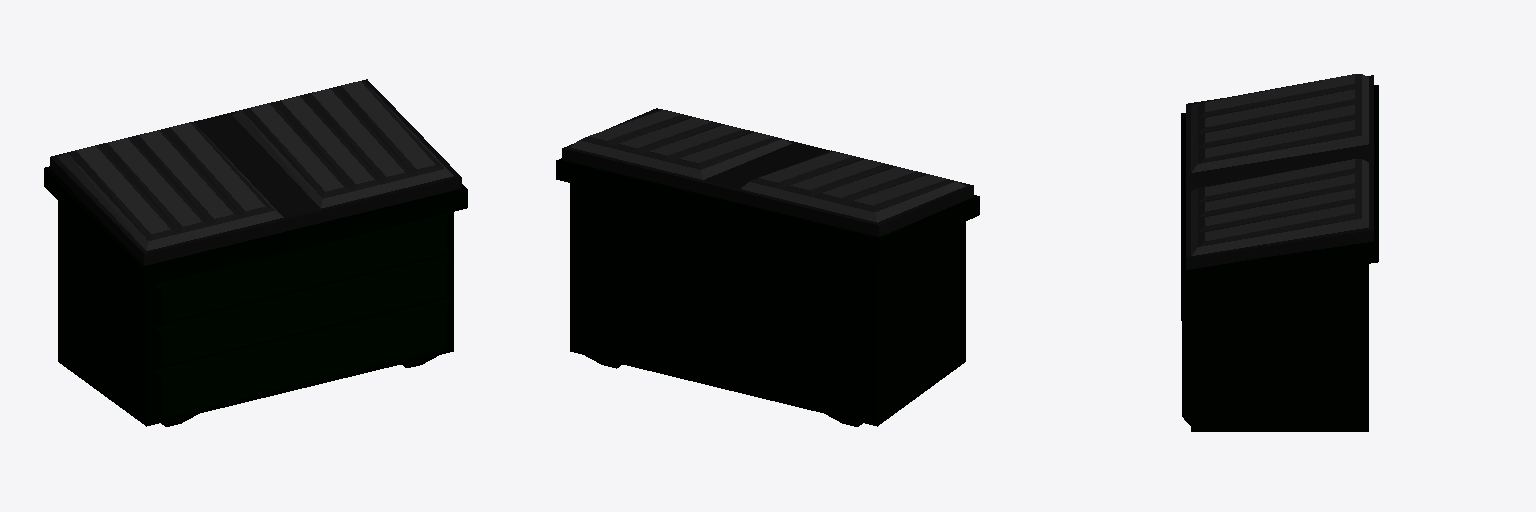
The model's file is CANECA.obj.
The picture shows the model from 3 angles: view 1: azimuth 30°, elevation 25°; view 2: azimuth 150°, elevation 25°; view 3: azimuth 270°, elevation 25°; orthographic projection.
Parts seen in each view (by area): view 1: Object.1; view 2: Object.1; view 3: Object.1.
Boxes of the visible parts, x1=… form: Object.1: x1=44, y1=79, x2=467, y2=426; Object.1: x1=556, y1=108, x2=979, y2=426; Object.1: x1=1181, y1=74, x2=1378, y2=431.
Bounding box in the file's own units: 5.58 × 3.69 × 2.94.